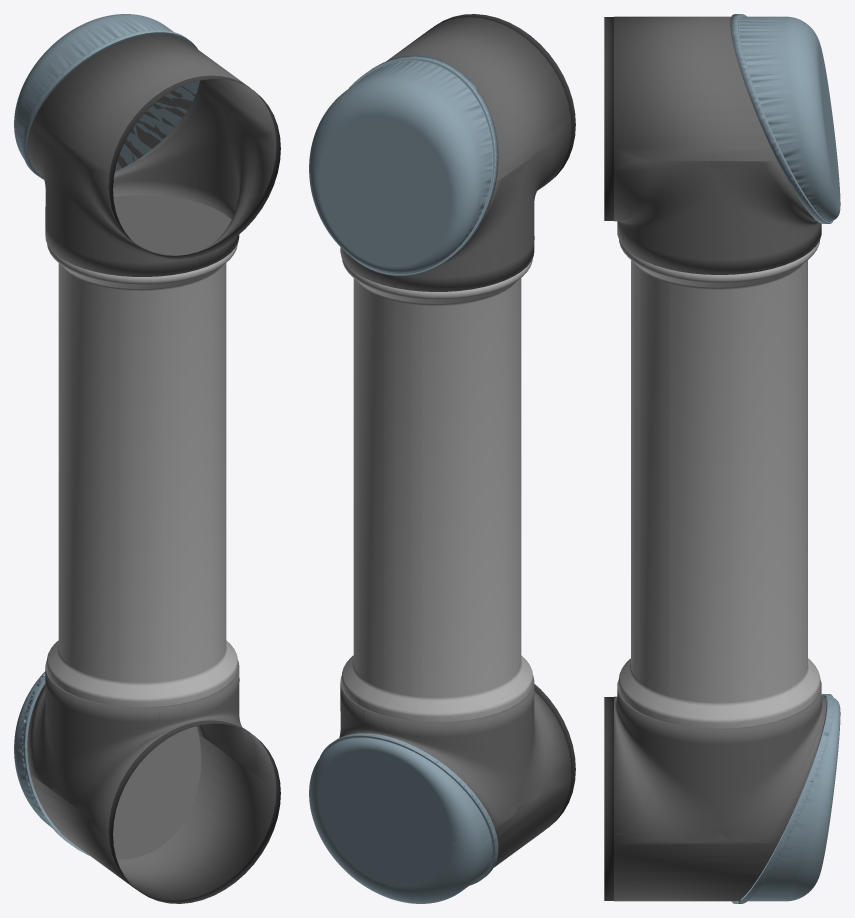
The model's file is upperarm.dae.
3 renders of one model, left to right at view 1: azimuth 30°, elevation 25°; view 2: azimuth 150°, elevation 25°; view 3: azimuth 270°, elevation 25°, orthographic. The views are drawn at different scales.
Parts seen in each view (by area): view 1: Actor3, Actor2, Actor0, Actor1, Actor4; view 2: Actor3, Actor1, Actor4, Actor2, Actor0; view 3: Actor3, Actor2, Actor0, Actor1, Actor4.
Boxes of the visible parts, bbox=[...] form: Actor3: bbox=[46, 243, 237, 707]; Actor2: bbox=[27, 34, 280, 276]; Actor0: bbox=[27, 661, 280, 903]; Actor1: bbox=[14, 14, 199, 179]; Actor4: bbox=[14, 671, 89, 855]; Actor3: bbox=[342, 258, 532, 722]; Actor1: bbox=[309, 55, 498, 275]; Actor4: bbox=[309, 733, 498, 903]; Actor2: bbox=[340, 14, 575, 291]; Actor0: bbox=[339, 675, 575, 867]; Actor3: bbox=[618, 240, 820, 728]; Actor2: bbox=[604, 16, 821, 274]; Actor0: bbox=[604, 679, 826, 901]; Actor1: bbox=[730, 14, 840, 223]; Actor4: bbox=[731, 694, 840, 903].
Size of the model in its own units: 0.119 by 0.1337 by 0.544.
